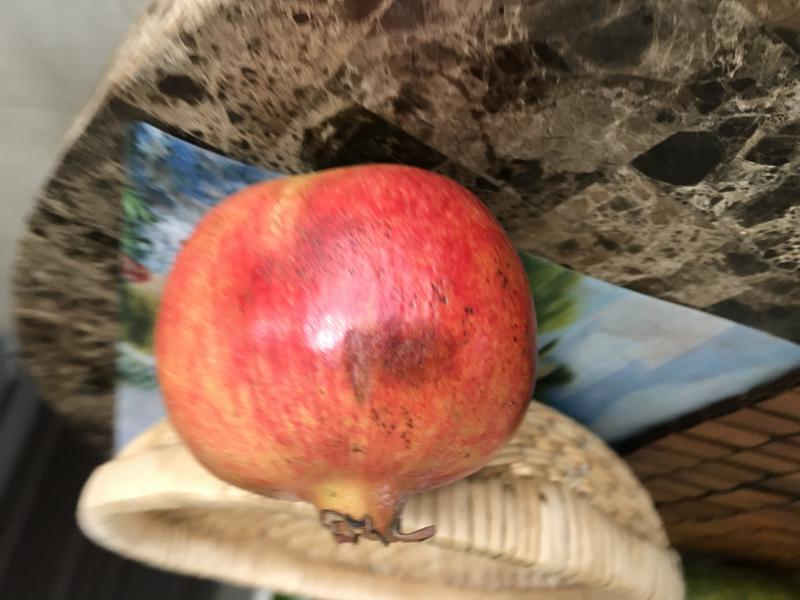pomegranate: (144, 155, 548, 557)
